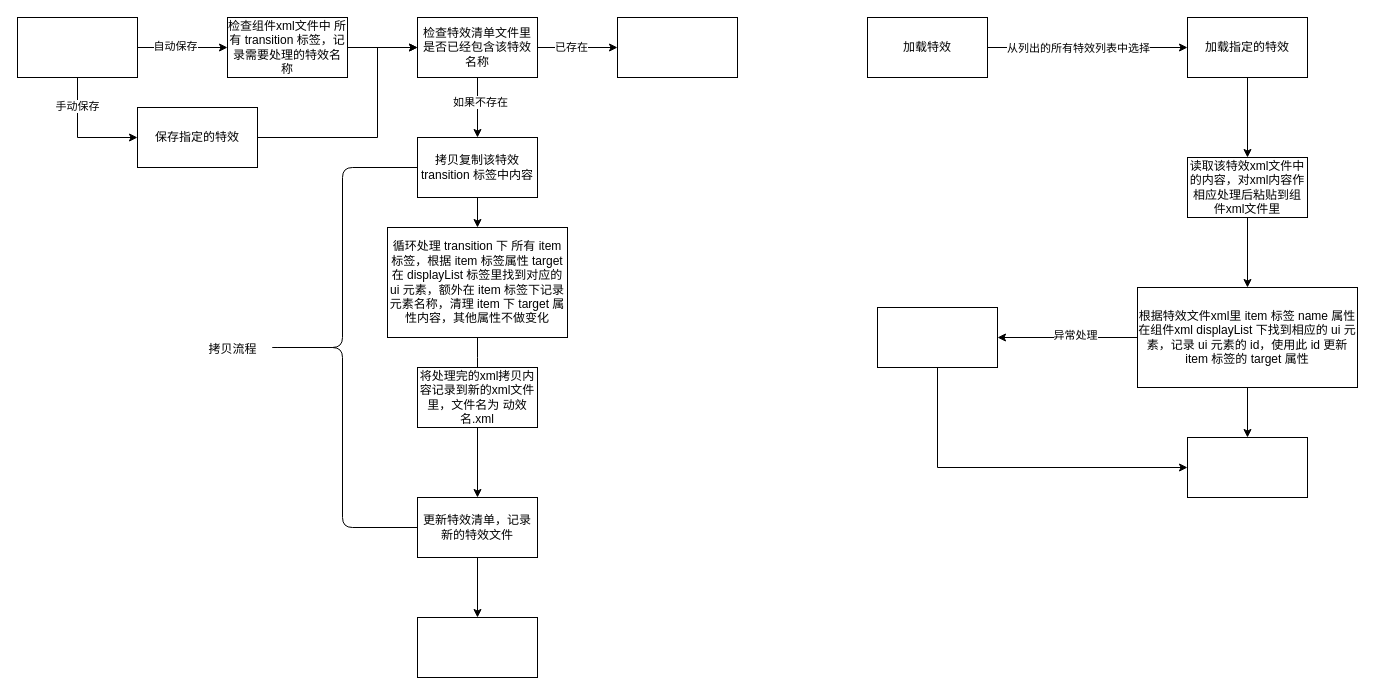
This 1375x695 diagram has some shape labels left out. Here are the shapes that lost their labels. From the top down, the centre of each, then its label:
At pixel 77 47: "保存特效".
At pixel 677 47: "提示特效已存在".
At pixel 937 337: "对于缺失的 ui 元素，打印提示".
At pixel 1247 467: "完成特效的加载".
At pixel 477 647: "保存完成".
